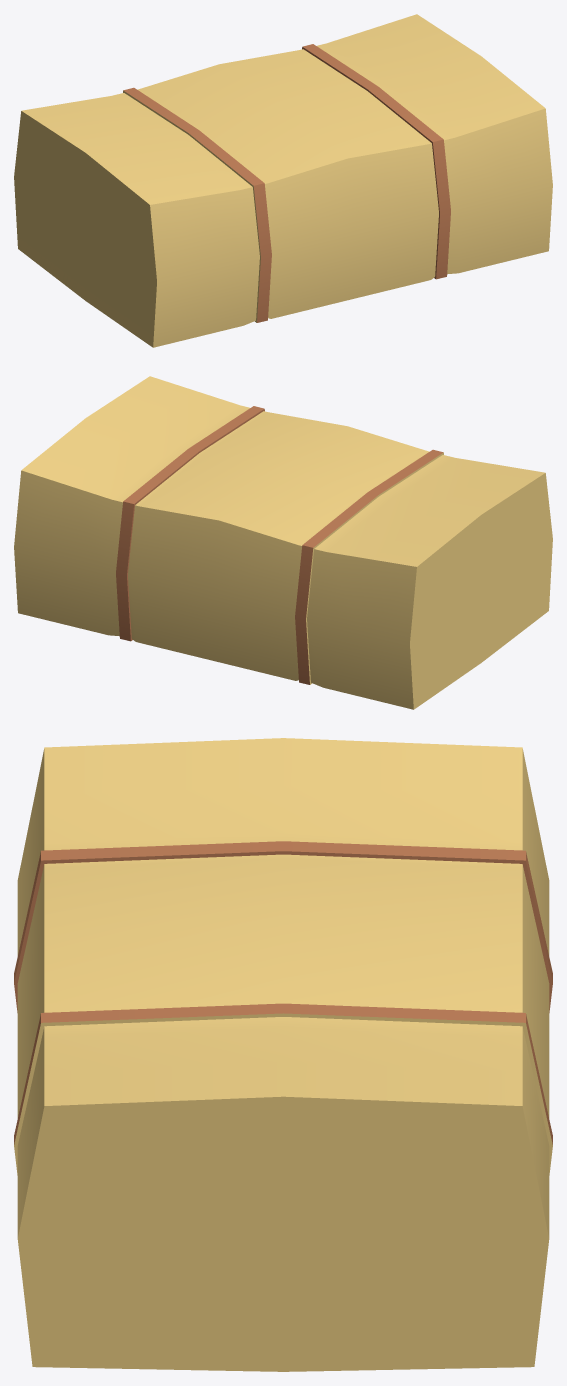
File: Mesh_Hay_Bale_2.fbx
The picture shows the model from 3 angles, top to bottom: view 1: azimuth 30°, elevation 25°; view 2: azimuth 150°, elevation 25°; view 3: azimuth 270°, elevation 25°; orthographic projection. The views are drawn at different scales.
Parts seen in each view (by area): view 1: Hay_Bale_2; view 2: Hay_Bale_2; view 3: Hay_Bale_2.
Part boxes in pixels (x1,y1,x2,y2): Hay_Bale_2: (14,14,552,347); Hay_Bale_2: (14,376,552,709); Hay_Bale_2: (14,738,552,1371).
Bounding box in the file's own units: 183 × 65.63 × 117.
1 material, 1 textured.
